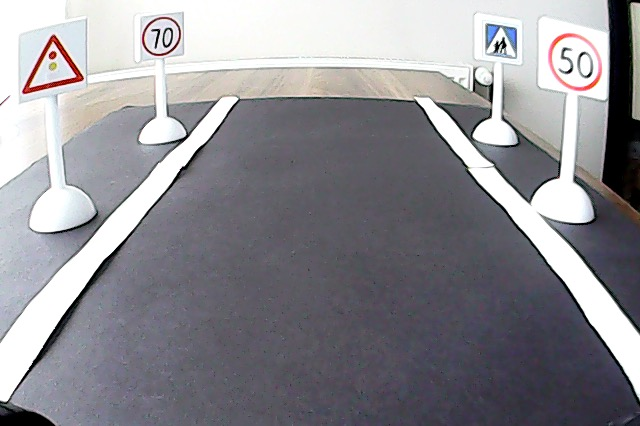red light: (20, 35, 81, 96)
school crossing: (480, 20, 522, 62)
speed limit 50: (542, 33, 601, 92)
speed limit 70: (140, 17, 180, 57)
